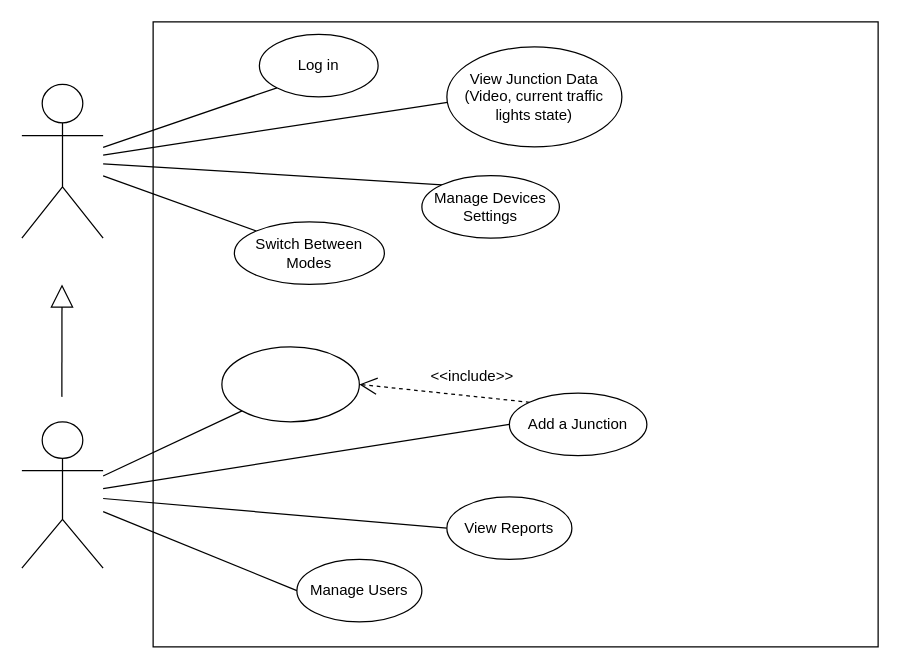
Image size: 900x669. Some labels were removed from this diagram. The centre of each missing label's shape, as x and y in pixels:
Admin: (x=62, y=494)
Configure Direction & Traffic Signals: (x=290, y=384)
User: (x=62, y=160)
